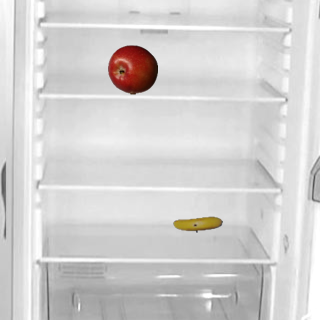Apple Braeburn: (107, 44, 157, 94)
Banana: (172, 199, 222, 249)
